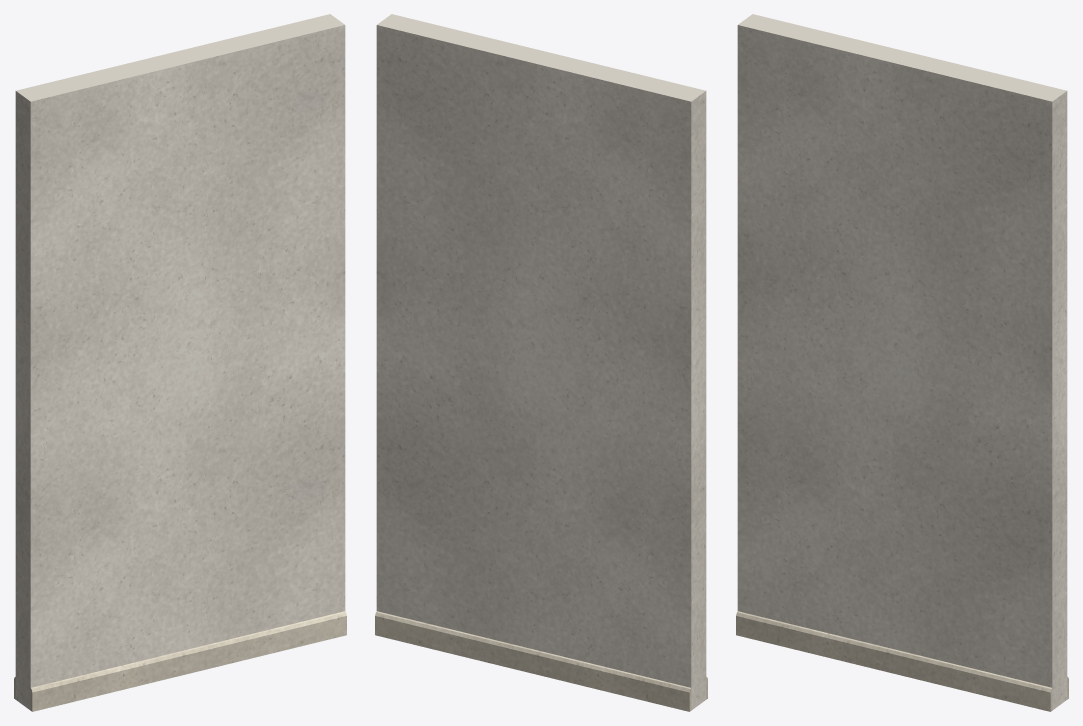
File: iw_end_plain.glb
3 renders of one model, left to right at view 1: azimuth 30°, elevation 25°; view 2: azimuth 150°, elevation 25°; view 3: azimuth 330°, elevation 25°, orthographic.
Visible parts, largest first — view 1: iw_end_plain_plaster, iw_end_plain_trim; view 2: iw_end_plain_plaster, iw_end_plain_trim; view 3: iw_end_plain_plaster, iw_end_plain_trim.
Boxes of the visible parts, x1,y1,x2,y2 form: iw_end_plain_plaster: [15, 14, 345, 710]; iw_end_plain_trim: [14, 611, 346, 711]; iw_end_plain_plaster: [376, 14, 706, 710]; iw_end_plain_trim: [375, 611, 707, 711]; iw_end_plain_plaster: [737, 14, 1067, 710]; iw_end_plain_trim: [736, 611, 1068, 711].
Size of the model in its own units: 1.7 by 3.14 by 0.172.
Materials: 2 (2 with a texture image).
